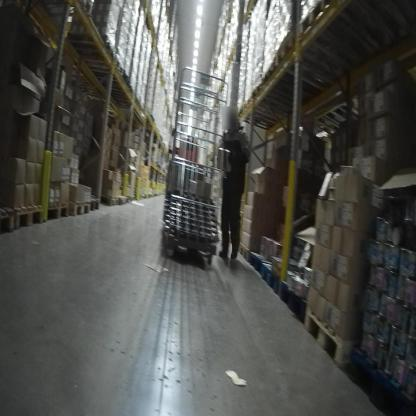pallets: (158, 189, 222, 265), (0, 196, 102, 236), (301, 305, 355, 370)
